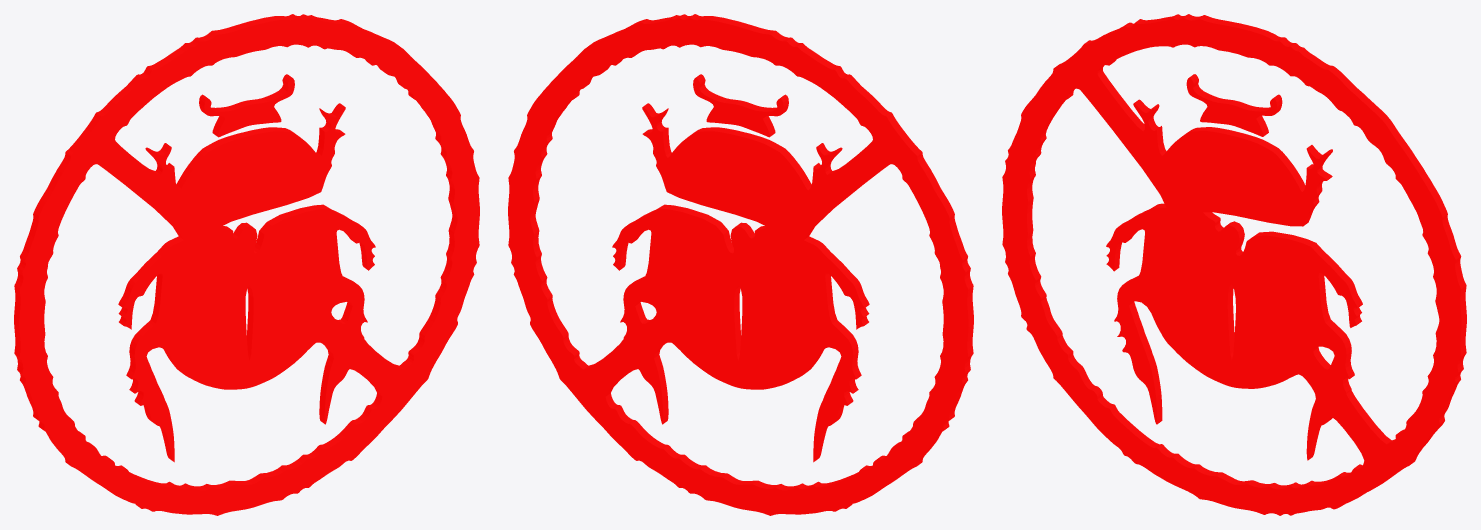
The model's file is nbs.glb.
3 views of the same model, side by side, from view 1: azimuth 30°, elevation 25°; view 2: azimuth 150°, elevation 25°; view 3: azimuth 330°, elevation 25° (orthographic).
Bounding box in the file's own units: 0.9987 × 0.9987 × 0.02.
